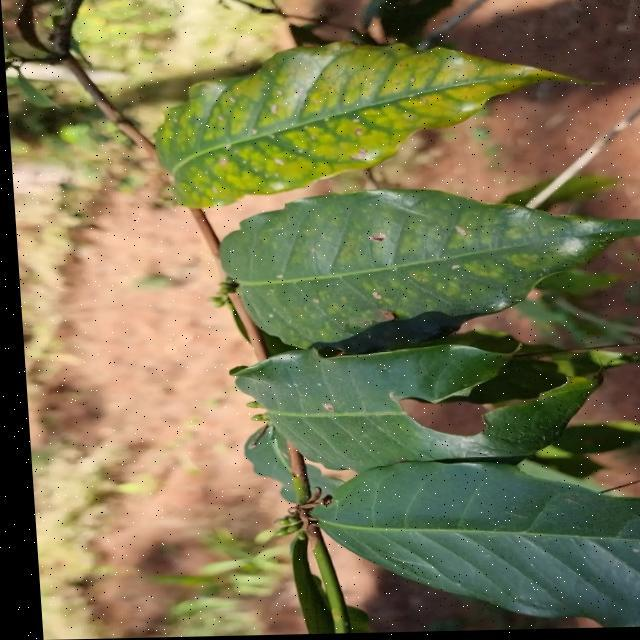leaves: (137, 0, 594, 225), (214, 136, 640, 362), (302, 418, 640, 640), (235, 325, 600, 480)
